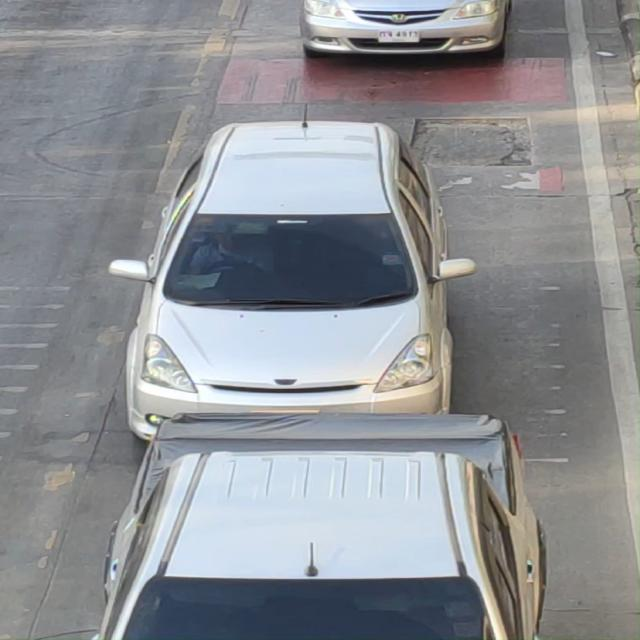car: (77, 108, 482, 441), (99, 405, 538, 640)
